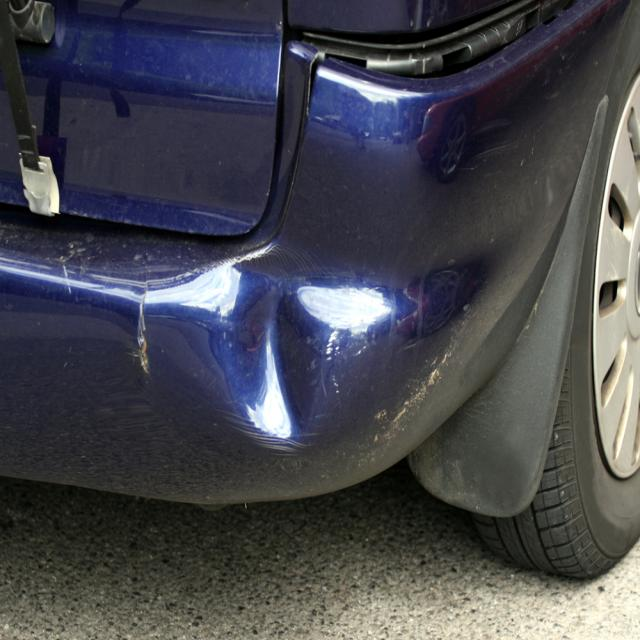crack: (137, 262, 152, 378), (306, 52, 323, 121)
dent: (224, 254, 331, 434)
